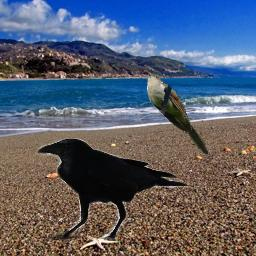Crow: (36, 138, 192, 242)
Cuckoo: (146, 71, 210, 155)
